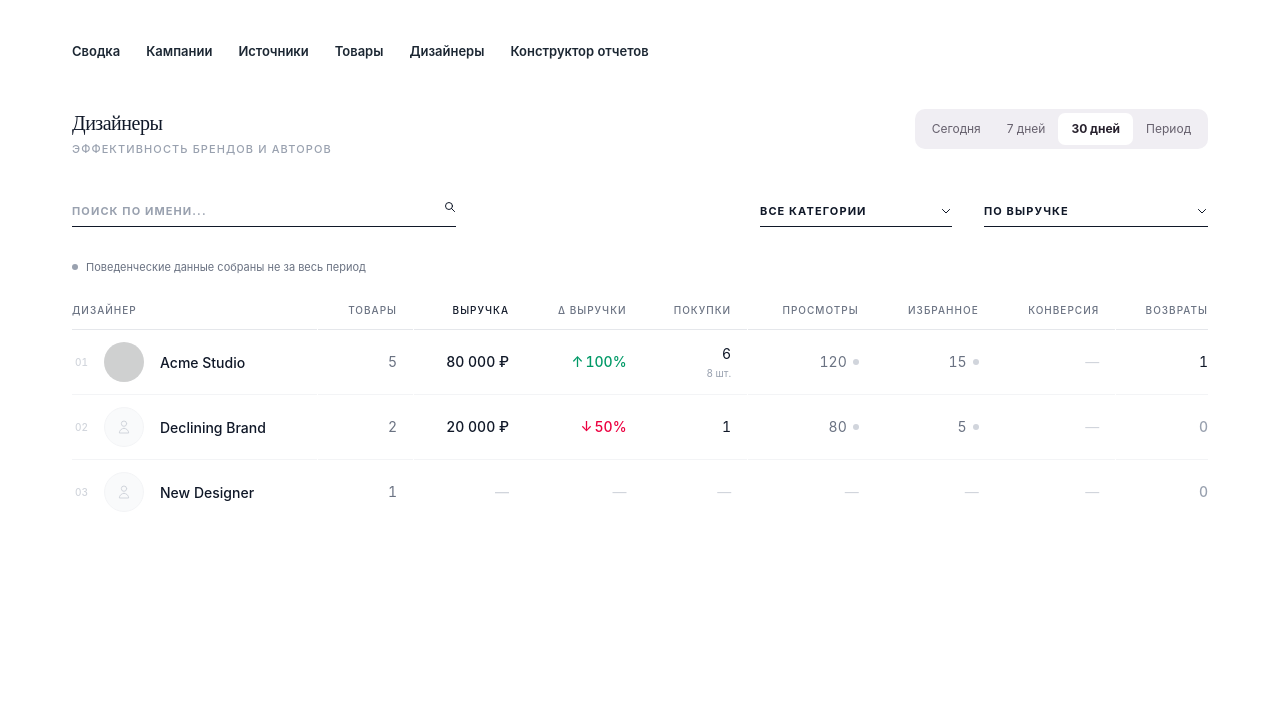
AdminMarketingDesigners Component Tests › 12. sort options for incomplete coverage are disabled with explanation
The image size is (1280, 720).
Expected: the text "Acme Studio" is shown, [160, 353, 245, 372]
Click the dropdown with test id "select-Сортировка". click: (1096, 215)
box: [984, 203, 1208, 226]
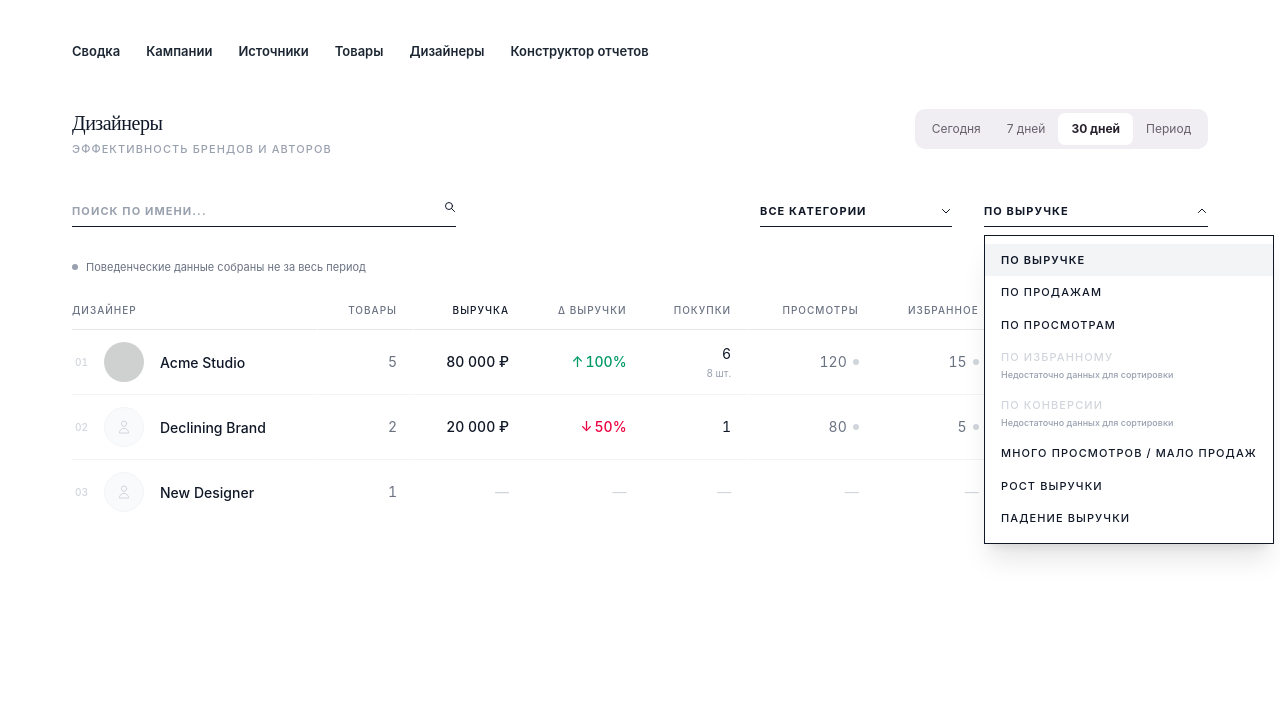
Now the option "По избранному Недостаточно данных для сортировки" is shown, box [1001, 350, 1173, 380]
